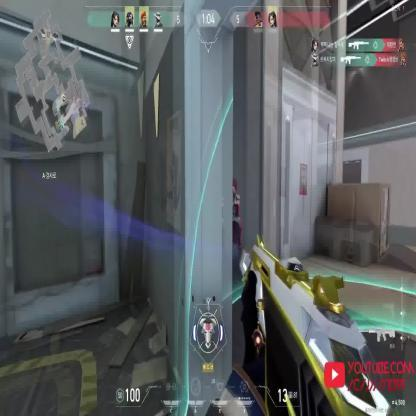enemy: (220, 172, 243, 260)
enemy_head: (228, 176, 236, 197)
